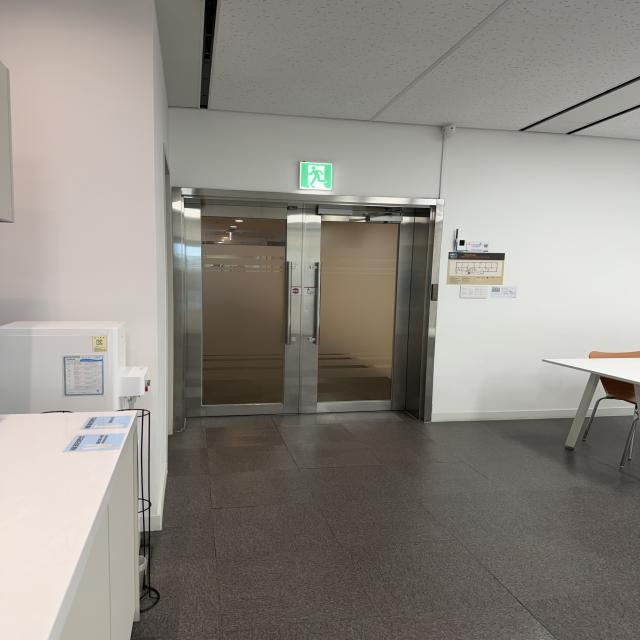rear_door: (184, 199, 406, 415)
